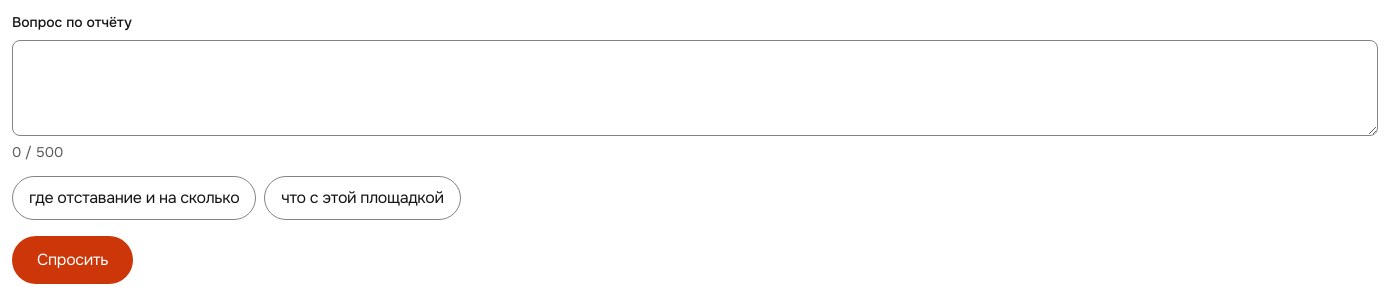
Test: AssistantQuestionForm › fills textarea with second example
The image size is (1390, 301).
Click the button "что с этой площадкой" at [362, 198], box [264,176,461,220]
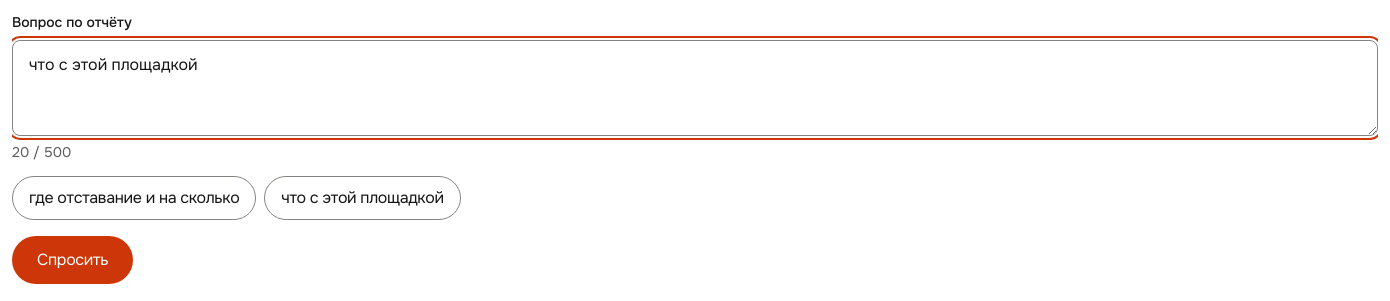
Now the text box labelled "Вопрос по отчёту" holds "что с этой площадкой", box [12,40,1378,136]
